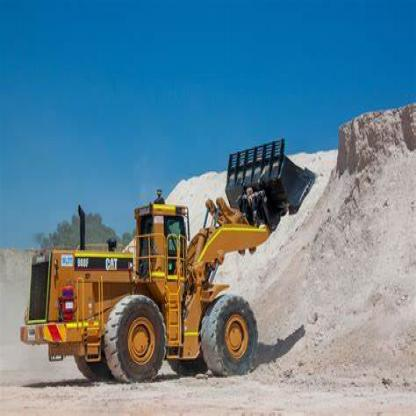bull_dozer/loader/grader: (17, 136, 328, 386)
